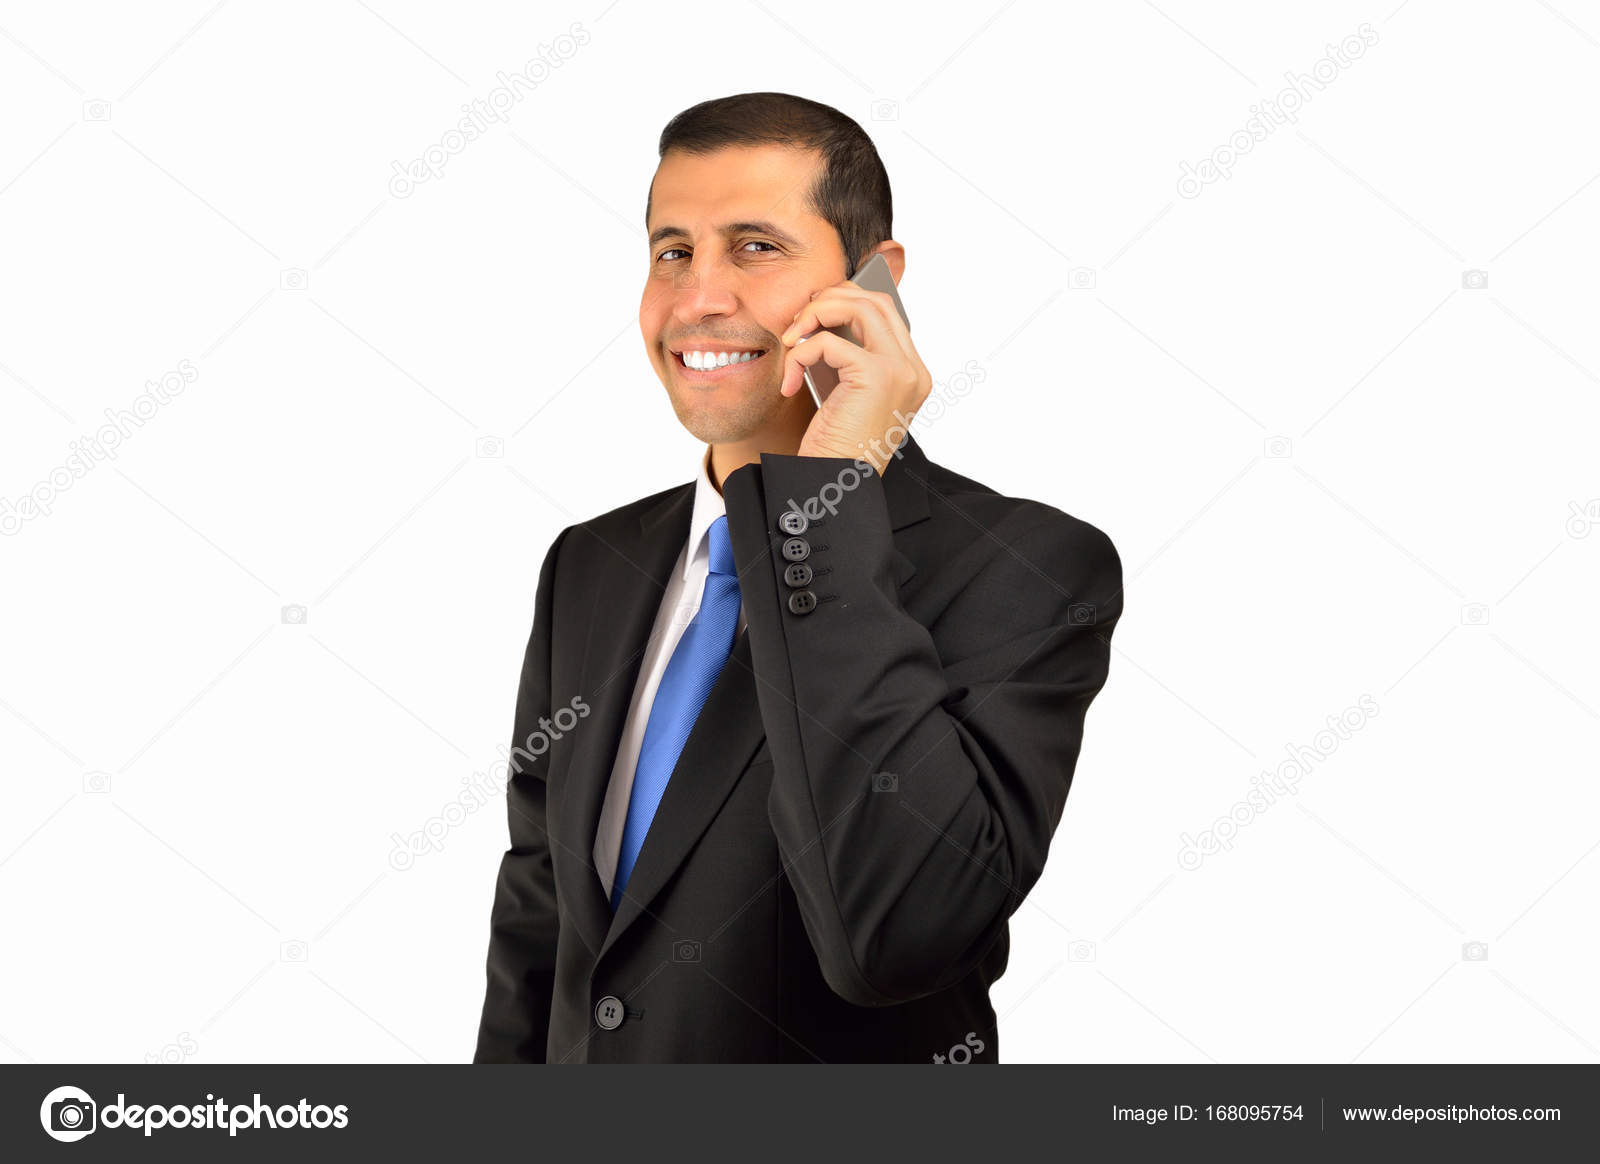phone: (769, 273, 938, 417)
talk: (643, 214, 952, 477)
